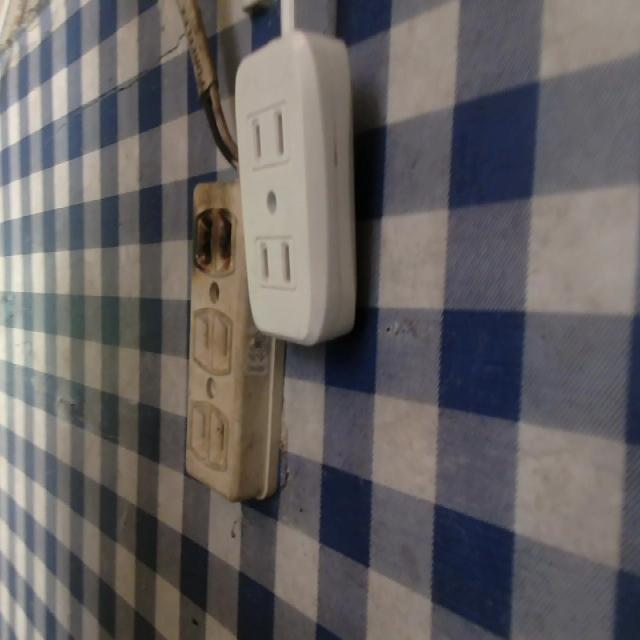-: (190, 199, 242, 277)
